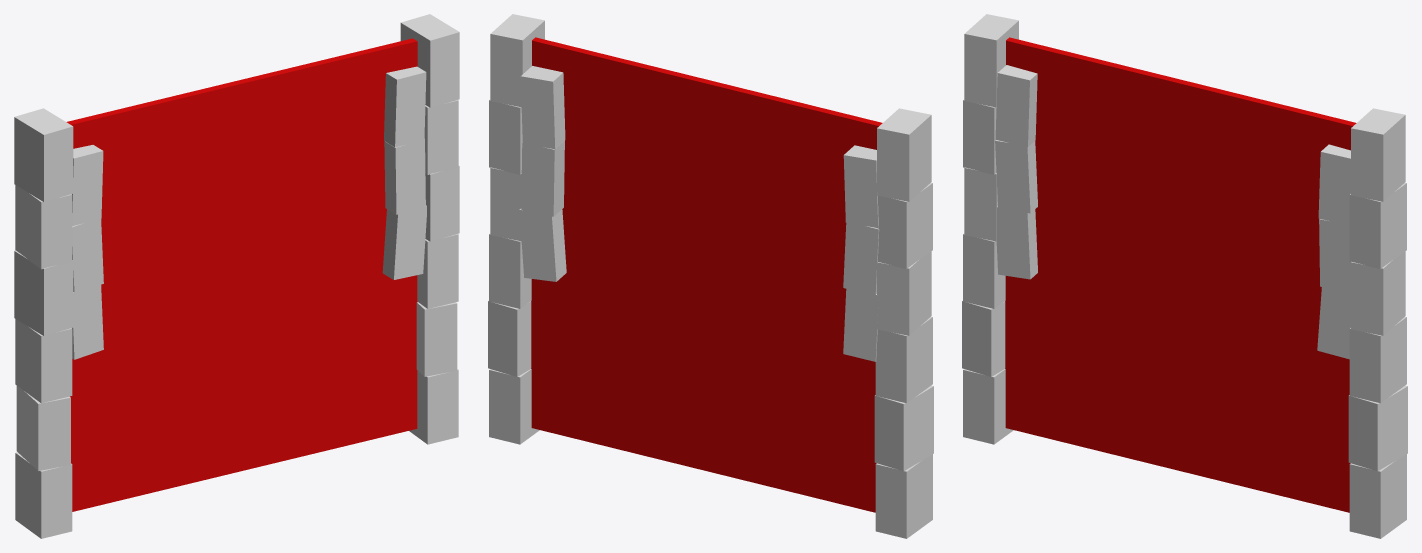
Rendered from Gate.fbx.
3 renders of one model, left to right at view 1: azimuth 30°, elevation 25°; view 2: azimuth 150°, elevation 25°; view 3: azimuth 330°, elevation 25°, orthographic.
Parts seen in each view (by area): view 1: pCube19, pCube5, pCube4, pCube1, pCube3, pCube6, pCube2, pCube11, pCube16, pCube7, pCube8, pCube17 (+7 smaller); view 2: pCube19, pCube5, pCube2, pCube1, pCube3, pCube6, pCube4, pCube11, pCube16, pCube8, pCube7, pCube18 (+7 smaller); view 3: pCube19, pCube11, pCube8, pCube7, pCube9, pCube10, pCube12, pCube5, pCube13, pCube2, pCube1, pCube14 (+7 smaller).
Part boxes in pixels (box(x1,y1,x2,y2)): pCube19: box(66, 38, 417, 511); pCube5: box(14, 108, 73, 201); pCube4: box(14, 250, 73, 335); pCube1: box(15, 452, 72, 538); pCube3: box(15, 319, 72, 403); pCube6: box(15, 185, 72, 269); pCube2: box(16, 386, 70, 470); pCube11: box(400, 14, 459, 107); pCube16: box(384, 66, 426, 147); pCube7: box(409, 369, 458, 444); pCube8: box(416, 302, 457, 376); pCube17: box(384, 139, 425, 214); pCube19: box(531, 37, 882, 512); pCube5: box(877, 108, 931, 201); pCube2: box(874, 385, 933, 471); pCube1: box(875, 454, 932, 538); pCube3: box(875, 316, 932, 403); pCube6: box(877, 182, 932, 269); pCube4: box(877, 251, 931, 335); pCube11: box(490, 14, 544, 107); pCube16: box(520, 66, 565, 149); pCube8: box(488, 300, 531, 376); pCube7: box(489, 369, 539, 444); pCube18: box(519, 208, 566, 281); pCube19: box(1005, 37, 1356, 512); pCube11: box(1351, 108, 1405, 201); pCube8: box(1348, 385, 1407, 471); pCube7: box(1349, 454, 1406, 538); pCube9: box(1349, 316, 1406, 403); pCube10: box(1349, 182, 1406, 269); pCube12: box(1351, 251, 1405, 335); pCube5: box(964, 14, 1018, 107); pCube13: box(995, 65, 1037, 146); pCube2: box(962, 300, 1005, 376); pCube1: box(963, 369, 1013, 444); pCube14: box(995, 140, 1037, 213).
Bounding box in the file's own units: 5.24 × 4.8 × 0.6281.
